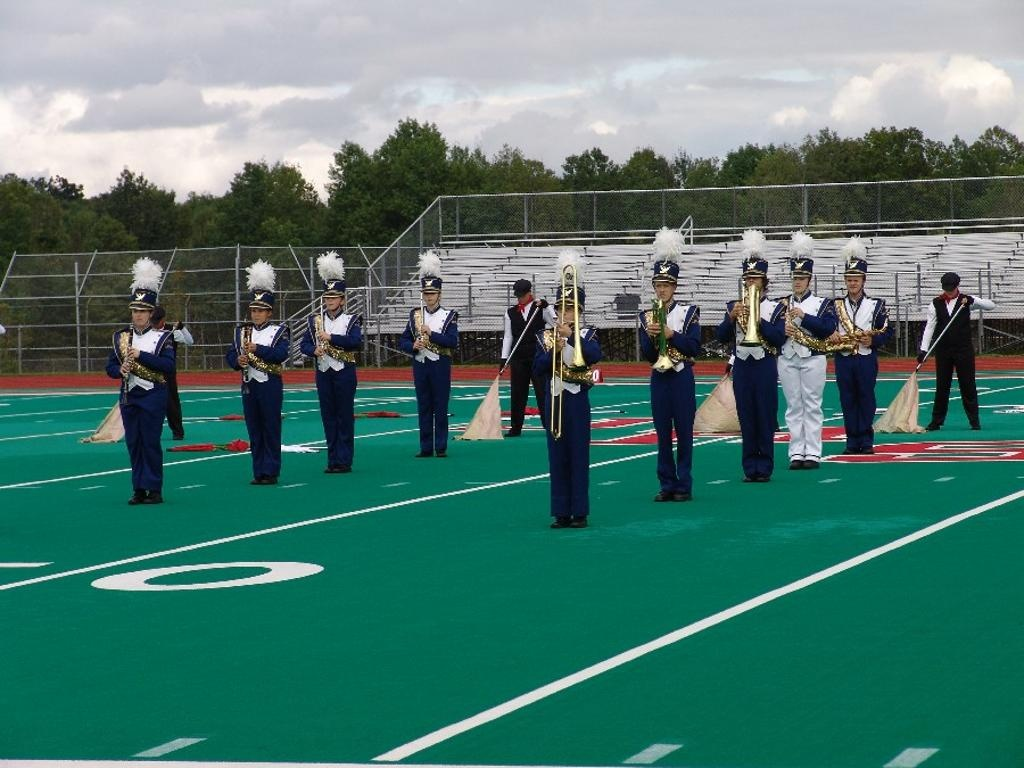human_face: (556, 302, 576, 324), (652, 280, 672, 300), (130, 306, 148, 326), (844, 275, 860, 293), (791, 275, 807, 291), (250, 306, 266, 322), (745, 276, 761, 290), (324, 294, 340, 308), (423, 290, 437, 304), (516, 288, 528, 304), (944, 286, 956, 298), (150, 316, 162, 328)
